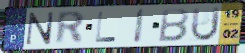B: (156, 7, 191, 43)
I: (132, 8, 147, 45)
L: (94, 11, 118, 44)
N: (24, 11, 56, 47)
R: (54, 10, 86, 46)
U: (189, 6, 222, 43)
